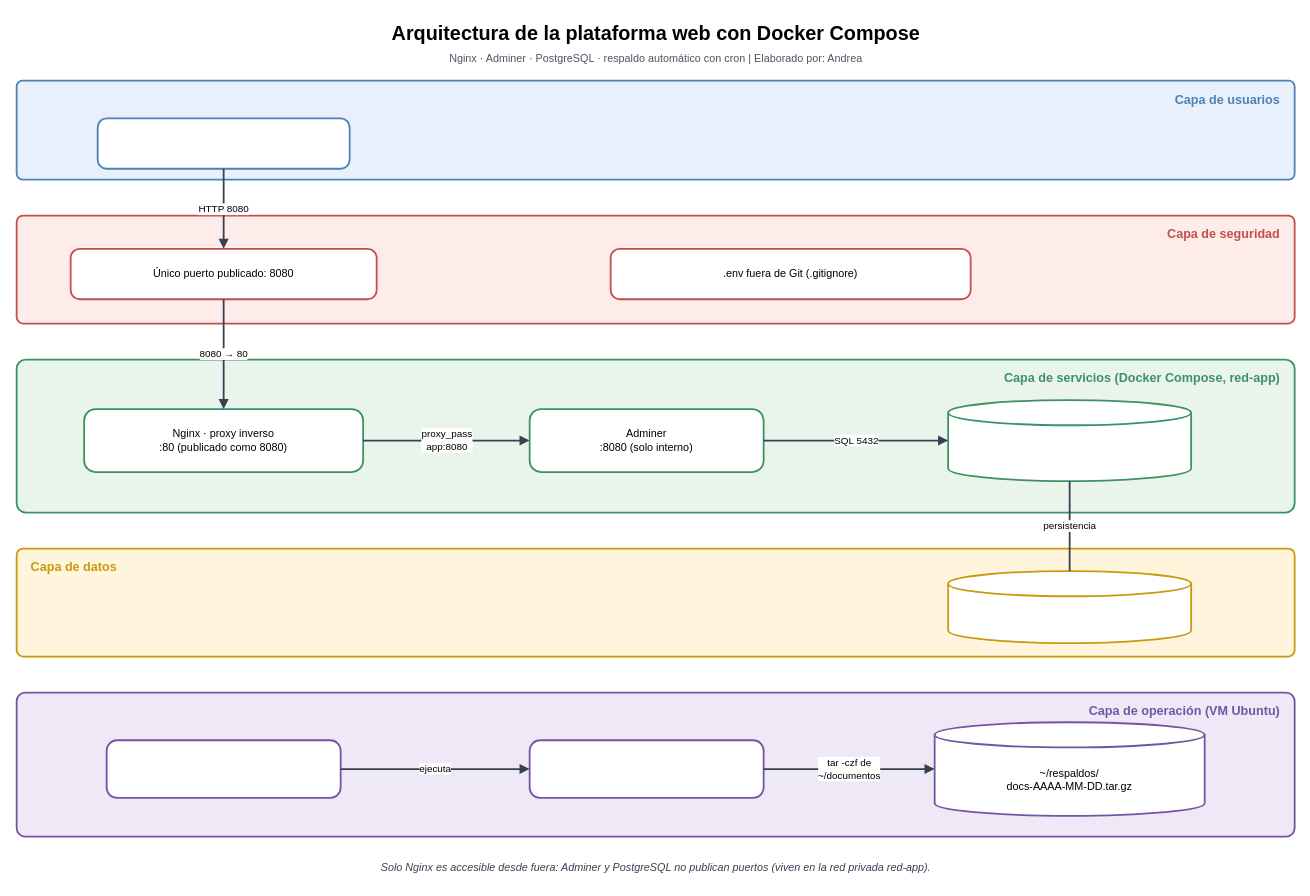
The diagram is 1310 pixels wide and 896 high, and some of its shapes have lost their labels. Here are the shapes that lost their labels. From the top down, the centre of each, then its label:
At [223,143]: "Navegador web".
At [1069,440]: "PostgreSQL 16 :5432 (solo interno)".
At [1069,607]: "Volumen datos-db".
At [223,768]: "cron 0 14 * * *".
At [646,768]: "respaldo.sh".
